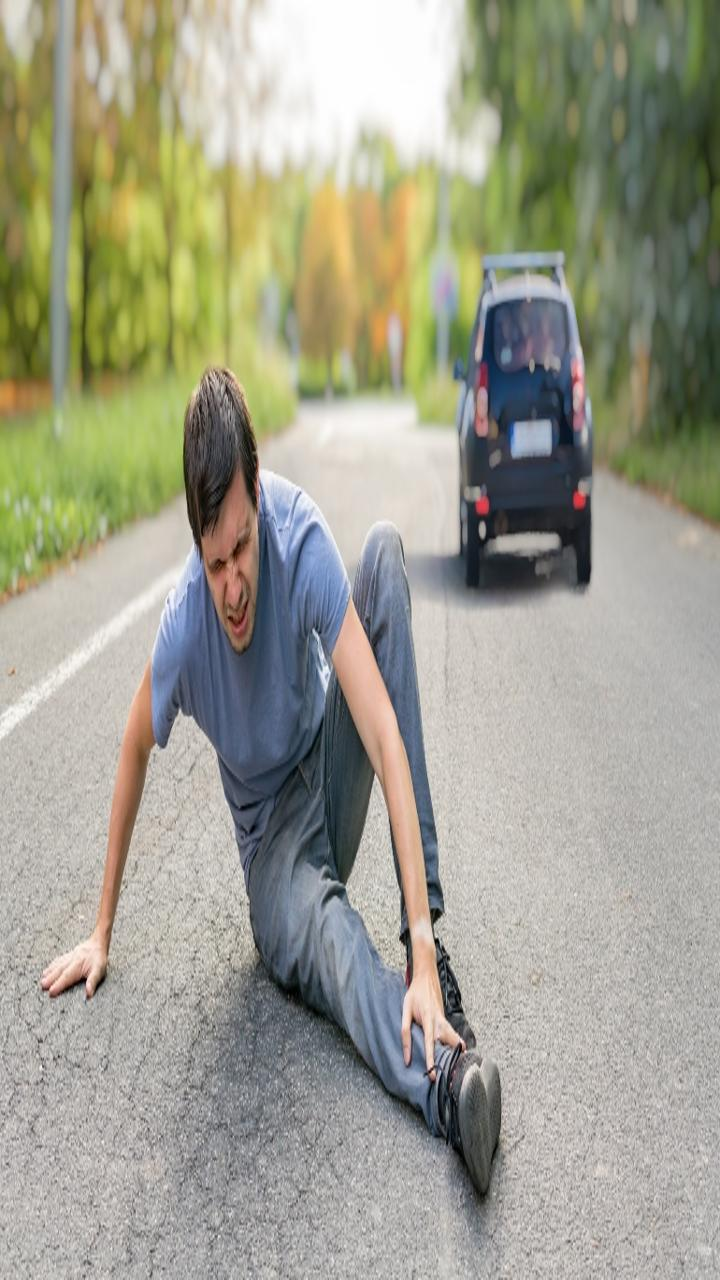pedestrian: (19, 368, 510, 1196)
vehicle: (447, 247, 632, 607)
